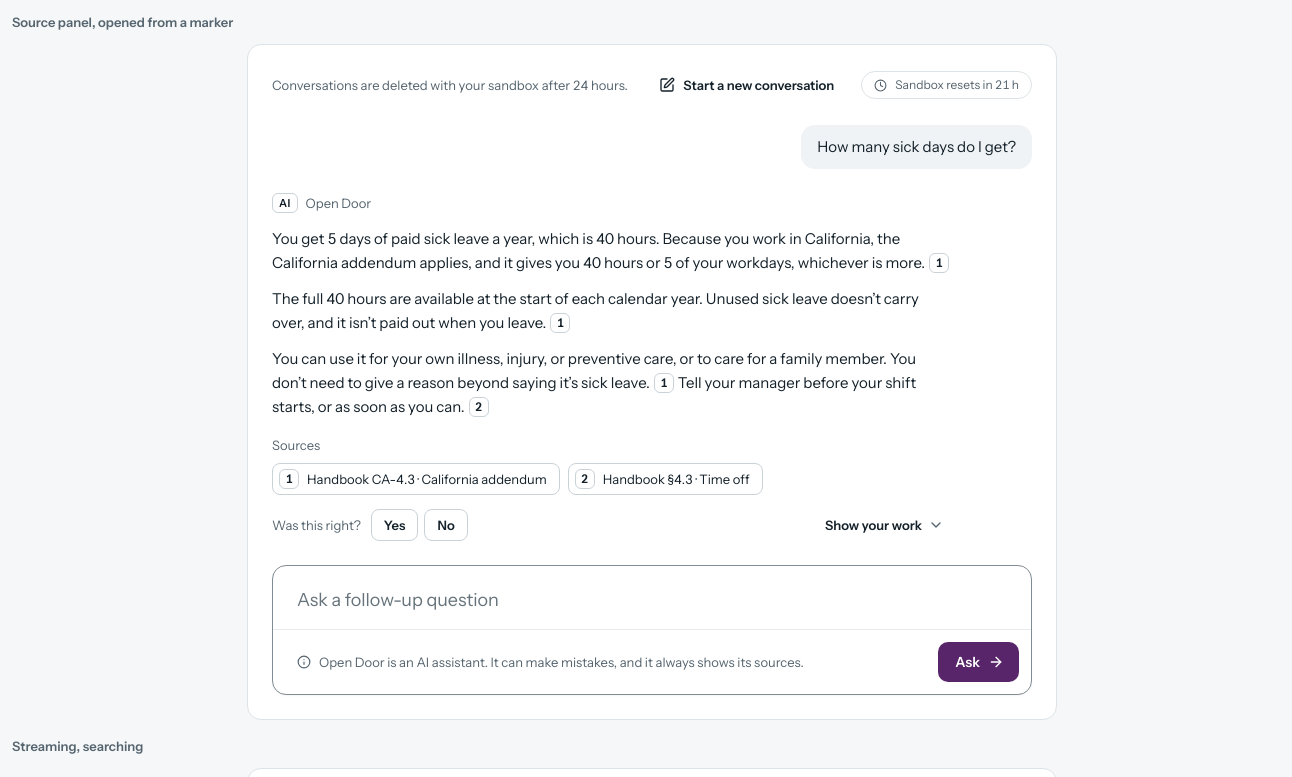
Test: ConversationSections: what each state shows › starts the source panel closed, and opens the real passage beside a marker
The image size is (1292, 777).
(page scrolled)
Click the 3rd button "1": [664, 383] box [654,373,674,393]
(page scrolled)
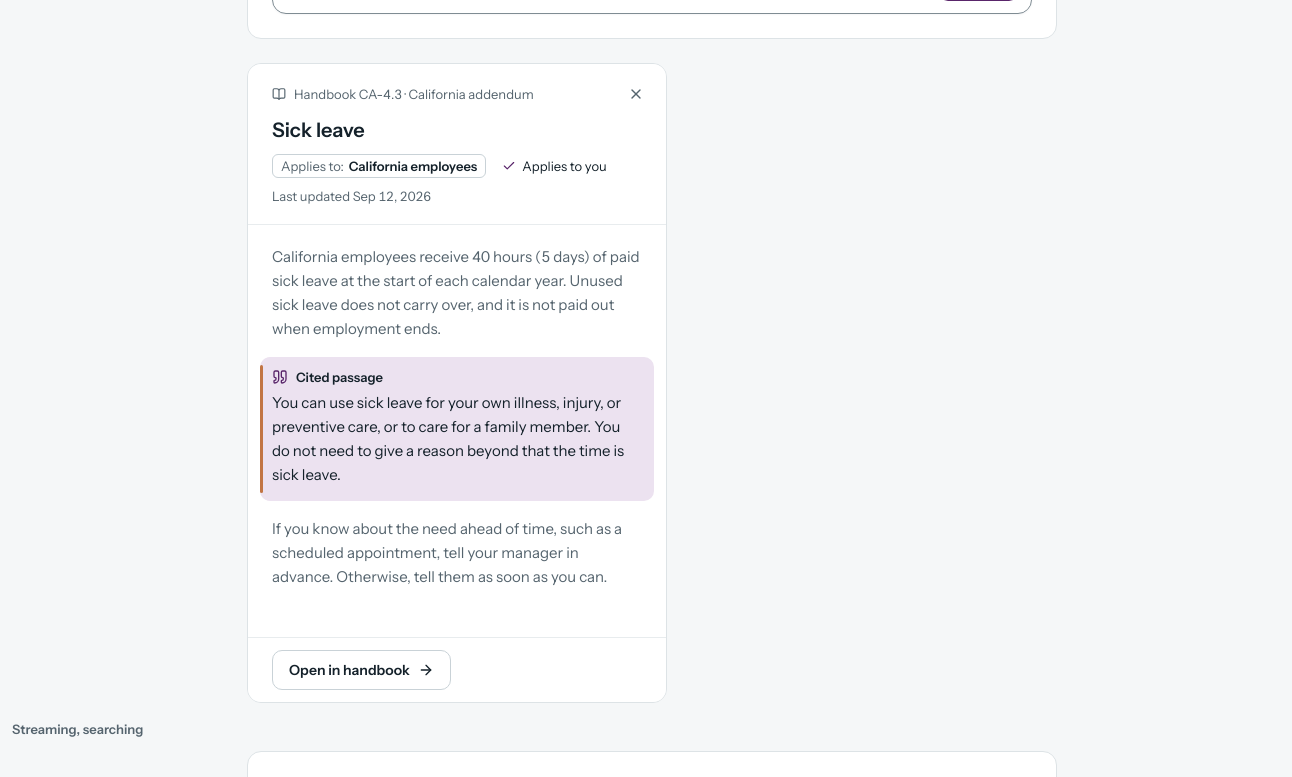
Expected: the element named "Handbook passage" is shown, [248,64,666,702]
